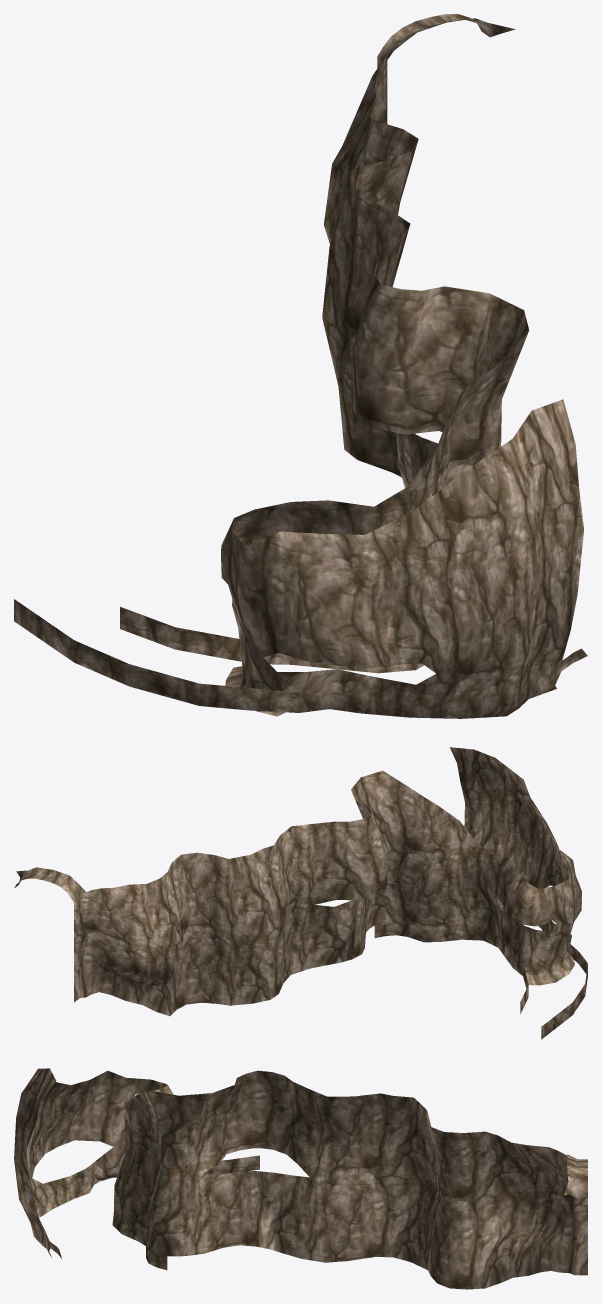
Rendered from EKH_THRONE_PS_TH_RT_WALL_47.fbx.
The picture shows the model from 3 angles, top to bottom: view 1: azimuth 30°, elevation 25°; view 2: azimuth 150°, elevation 25°; view 3: azimuth 270°, elevation 25°; orthographic projection. The views are drawn at different scales.
Parts seen in each view (by area): view 1: EKH_THRONE_PS_TH_RT_WALL_47; view 2: EKH_THRONE_PS_TH_RT_WALL_47; view 3: EKH_THRONE_PS_TH_RT_WALL_47.
Part boxes in pixels (<box>): EKH_THRONE_PS_TH_RT_WALL_47: <box>14,14,587,718</box>; EKH_THRONE_PS_TH_RT_WALL_47: <box>14,747,587,1039</box>; EKH_THRONE_PS_TH_RT_WALL_47: <box>14,1068,587,1289</box>.
Bounding box in the file's own units: 294226 × 120952 × 326101.
Materials: 1 (1 with a texture image).
